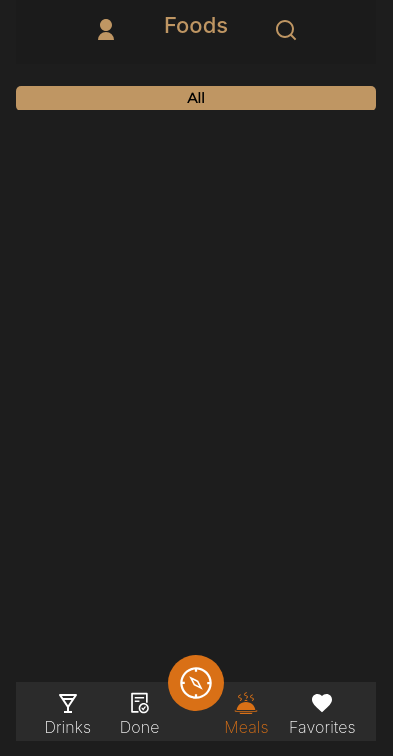
Scenario: botão de busca que, ao ser clicado, a barra de busca deve aparecer. O mesmo serve para escondê-la › Checa a existência dos radios buttons após clicar na lupa
Step 1. Click the button with test id "search-top-btn" → (286, 29), box [274,16,298,42]
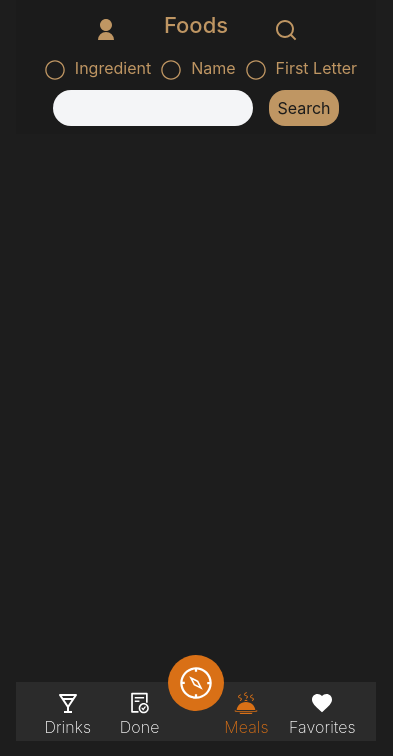
Now the field with test id "search-input" is shown, box [54,90,254,126]
Now the radio button with test id "ingredient-search-radio" is shown, box [35,56,151,82]
Now the radio button with test id "name-search-radio" is shown, box [151,56,236,82]
